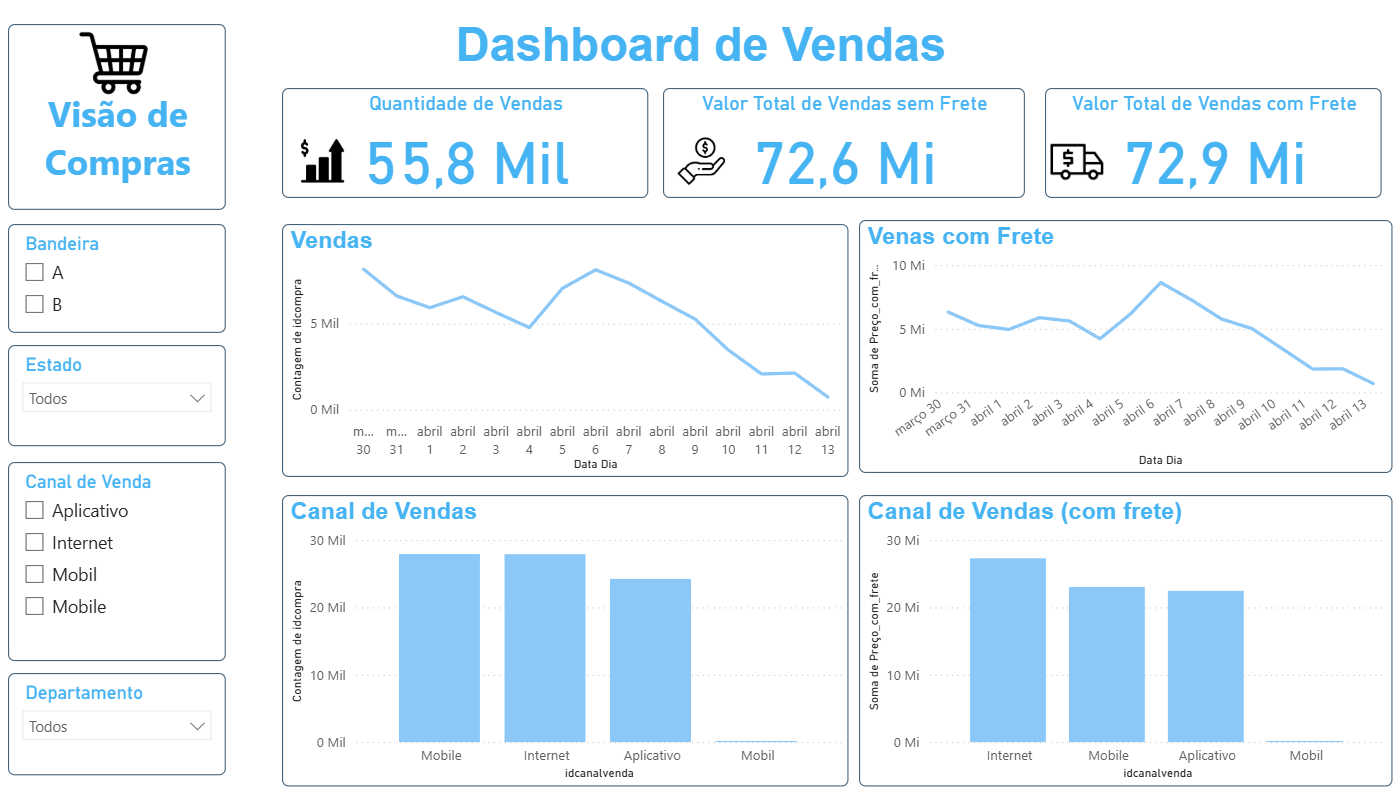

This screenshot's page, from the dashboard's own definition file:
{"tool":"powerbi","page":{"name":"Visão de Compras","canvas":[1280,720],"ordinal":1},"visuals":[{"type":"card","title":"Quantidade de Vendas","fields":{"Values":["Count(base compra.idcompra)"]},"box":[259,80.8,332.8,100.3],"z":0},{"type":"card","title":"Valor Total de Vendas sem Frete","fields":{"Values":["Sum(base compra.Preço)"]},"box":[605.8,80.8,328.7,100.3],"z":1000},{"type":"card","title":"Valor Total de Vendas com Frete","fields":{"Values":["Sum(base compra.Preço_com_frete)"]},"box":[952.6,80.8,306.4,100.3],"z":2000},{"type":"lineChart","title":"Vendas ","fields":{"Y":["CountNonNull(base compra.idcompra)"],"Category":["base compra.Data.Variation.Hierarquia de datas.Mês","base compra.Data.Variation.Hierarquia de datas.Dia"]},"box":[259,204.7,515.3,229.8],"z":3000},{"type":"lineChart","title":"Venas com Frete","fields":{"Category":["base compra.Data.Variation.Hierarquia de datas.Mês","base compra.Data.Variation.Hierarquia de datas.Dia"],"Y":["Sum(base compra.Preço_com_frete)"]},"box":[784.1,200.5,484.6,229.8],"z":4000},{"type":"columnChart","title":"Canal de Vendas","fields":{"Y":["CountNonNull(base compra.idcompra)"],"Category":["base compra.idcanalvenda"]},"box":[259,451.2,515.3,264.6],"z":5000},{"type":"columnChart","title":"Canal de Vendas (com frete)","fields":{"Y":["Sum(base compra.Preço_com_frete)"],"Category":["base compra.idcanalvenda"]},"box":[784.1,451.2,484.6,264.6],"z":6000},{"type":"slicer","title":"Bandeira","fields":{"Values":["base compra.bandeira"]},"box":[9.7,204.7,197.8,98.9],"z":7000},{"type":"slicer","fields":{"Values":["base compra.estado"]},"box":[9.7,314.7,197.8,91.9],"z":8000},{"type":"slicer","fields":{"Values":["base compra.idcanalvenda"]},"box":[9.7,420.6,197.8,181],"z":9000},{"type":"slicer","fields":{"Values":["base compra.Nome_Departamento"]},"box":[9.7,612.8,197.8,93.3],"z":10000},{"type":"textbox","box":[0,12.5,1279.8,62.7],"z":11000},{"type":"textbox","box":[9.7,22.3,197.8,168.5],"z":12000},{"type":"image","box":[69.6,20.9,72.4,75.2],"z":13000},{"type":"image","box":[270.2,118.4,51.5,58.5],"z":14000},{"type":"image","box":[611.4,121.2,57.1,52.9],"z":15000},{"type":"image","box":[952.6,114.2,58.5,66.8],"z":16000}]}

Visuals, with their boxes in screenshot pixels (x1, y1, x2, y2), scaled from the page's 1280x720 canvas onto the 1399x790 screenshot:
"Quantidade de Vendas" card: 283/89/647/199
"Valor Total de Vendas sem Frete" card: 662/89/1021/199
"Valor Total de Vendas com Frete" card: 1041/89/1376/199
"Vendas " lineChart: 283/225/846/477
"Venas com Frete" lineChart: 857/220/1387/472
"Canal de Vendas" columnChart: 283/495/846/785
"Canal de Vendas (com frete)" columnChart: 857/495/1387/785
"Bandeira" slicer: 11/225/227/333
slicer - base compra.estado: 11/345/227/446
slicer - base compra.idcanalvenda: 11/461/227/660
slicer - base compra.Nome_Departamento: 11/672/227/775
textbox: 0/14/1398/83
textbox: 11/24/227/209
image: 76/23/155/105
image: 295/130/352/194
image: 668/133/731/191
image: 1041/125/1105/199
